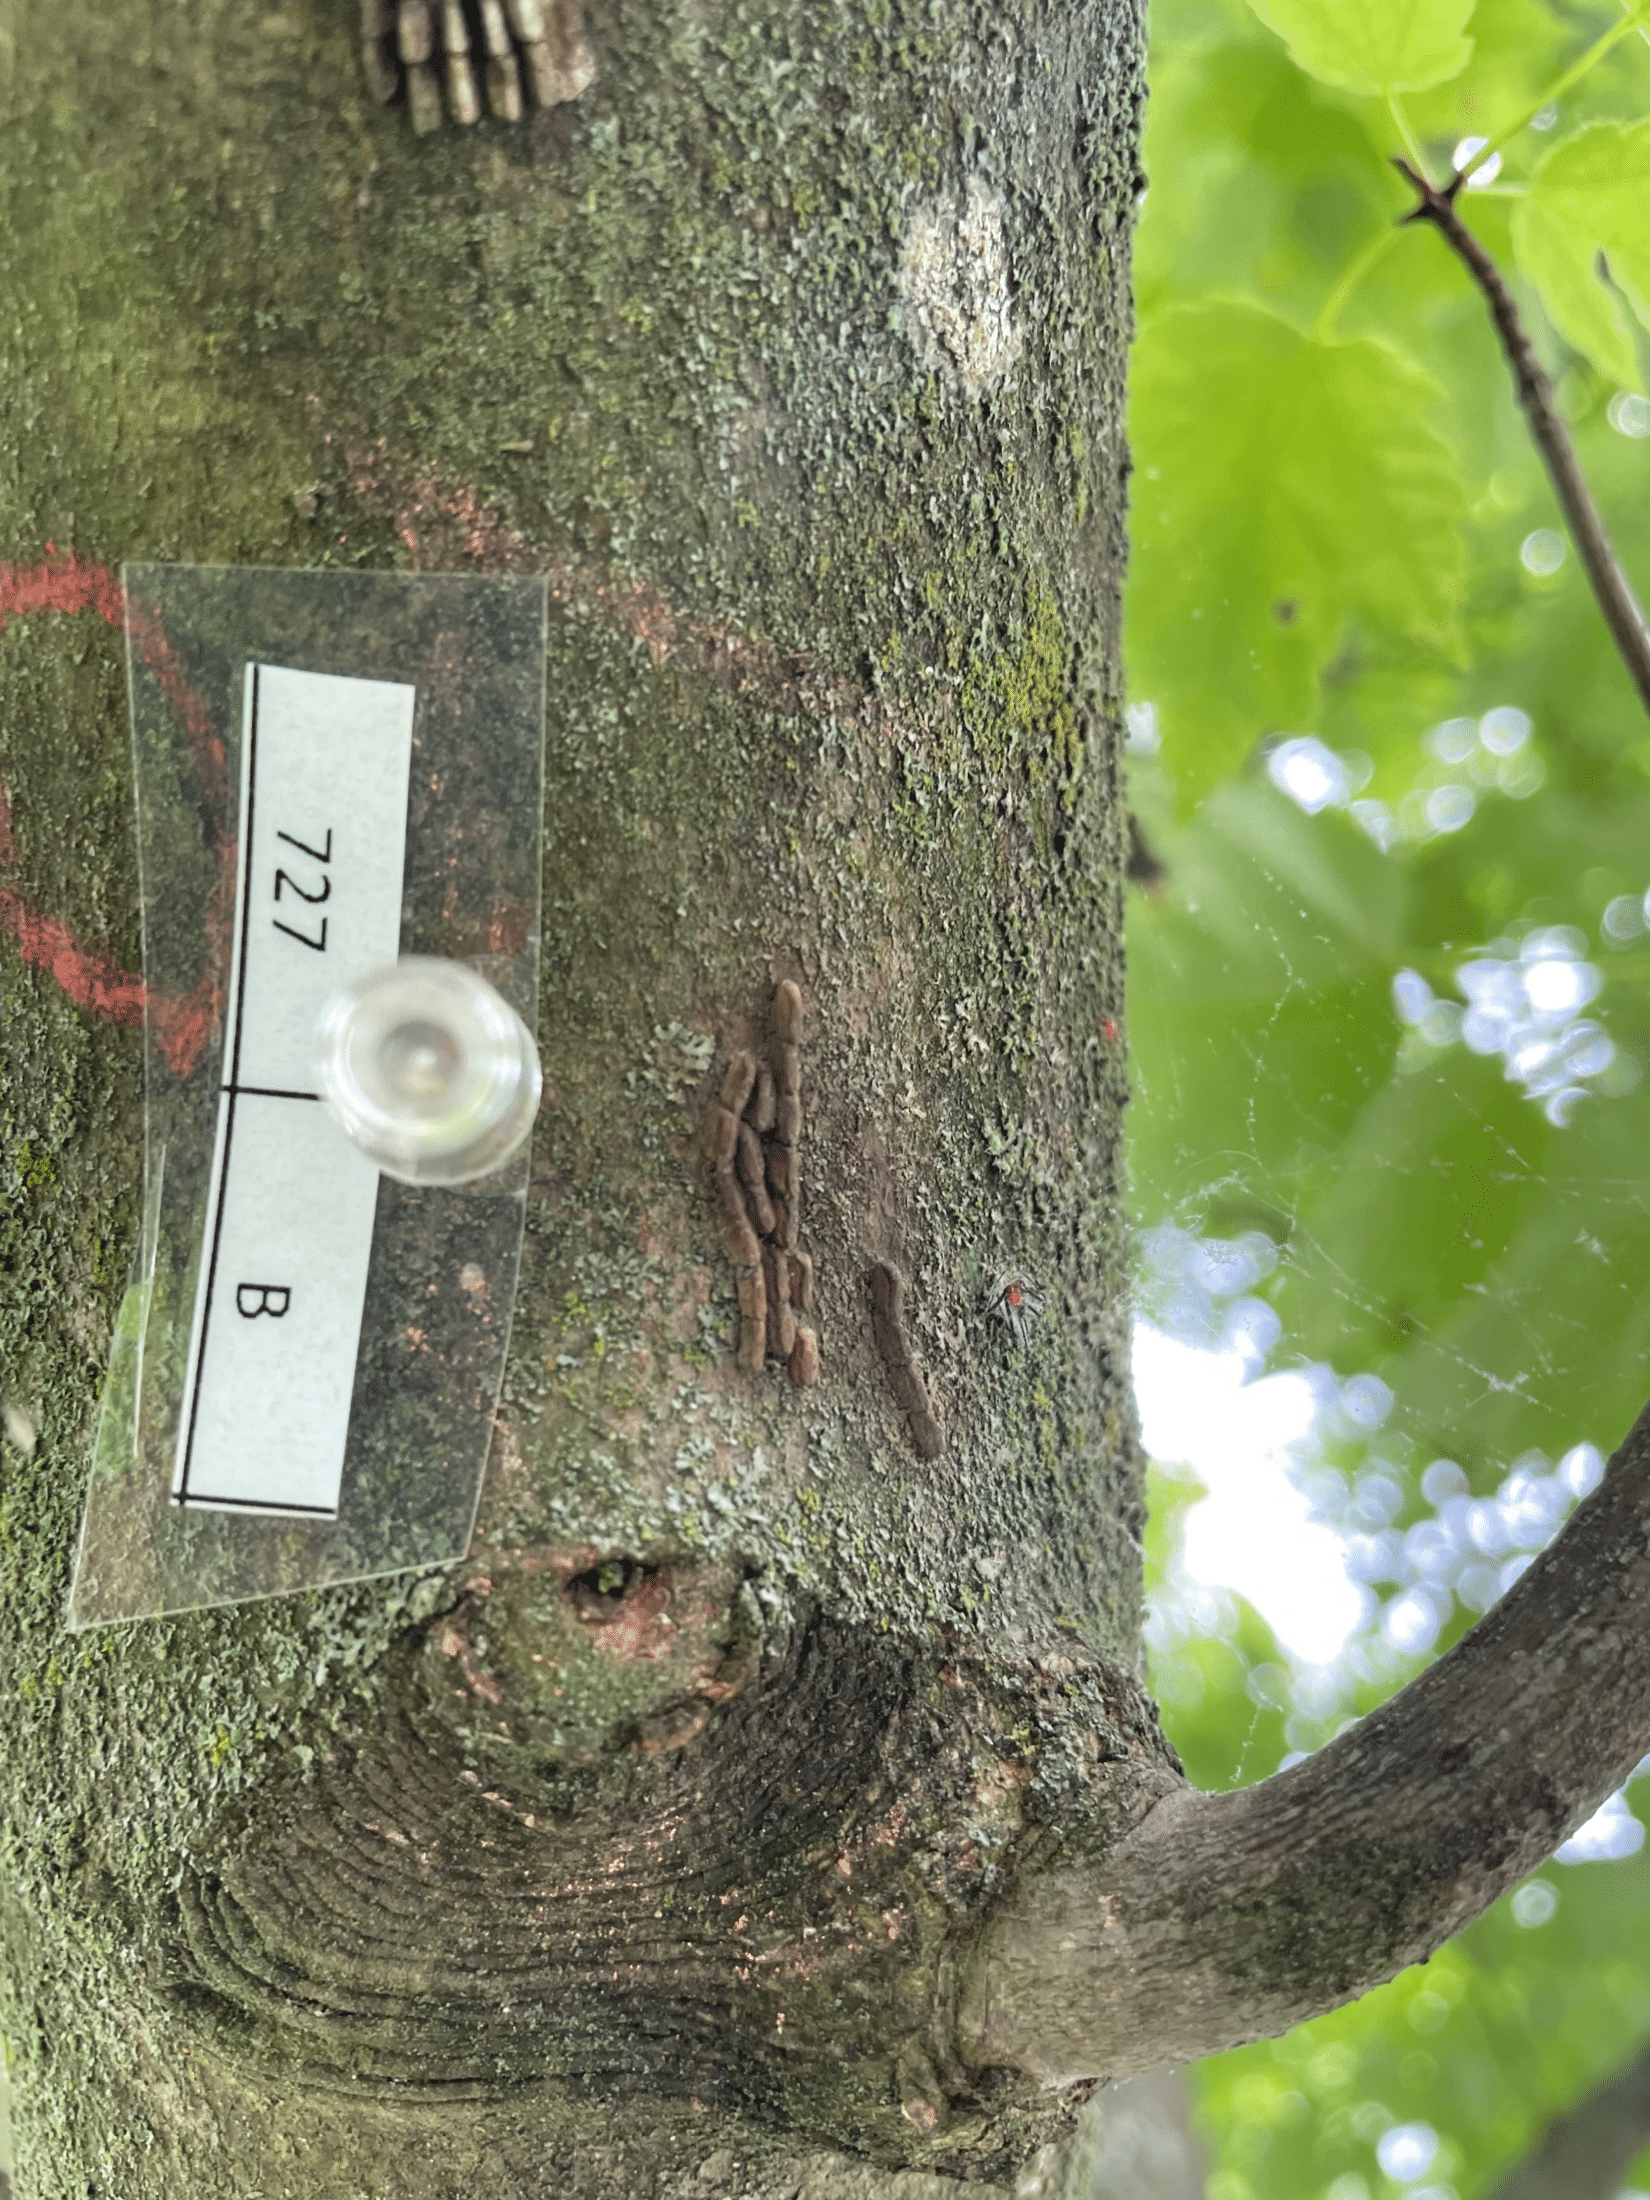egg masses: (678, 937, 841, 1415), (317, 0, 648, 149), (834, 1251, 974, 1474)
